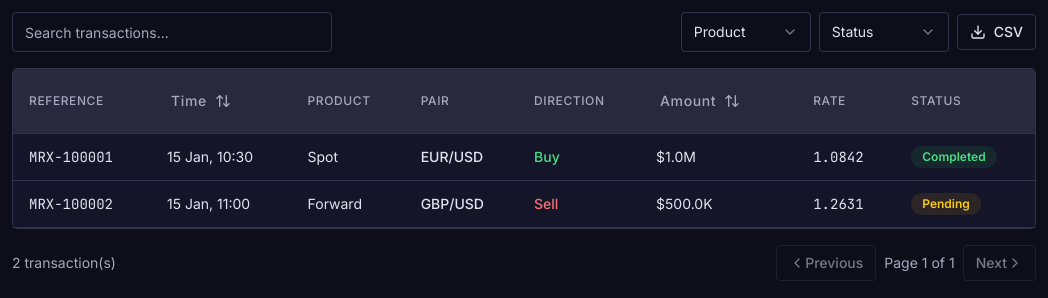
Test: DataTable › filters by search term
Type "MRX-100001" into the field labelled "Search transactions..." at [172, 32], box [12, 12, 332, 52]
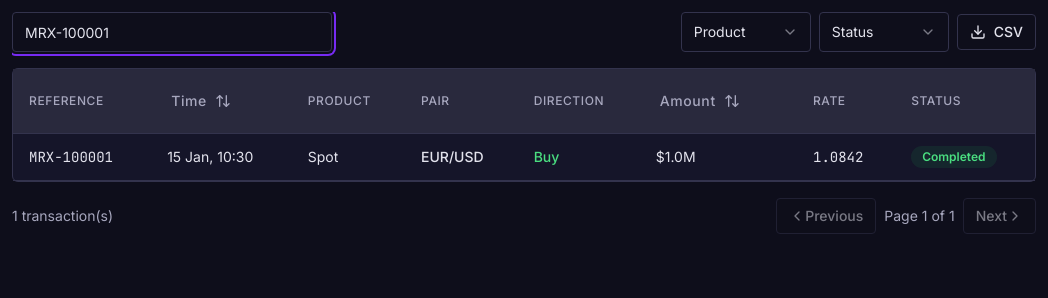
expect the text "MRX-100001" is shown: met, box [29, 148, 113, 166]
expect the text "MRX-100002" is gone: met
